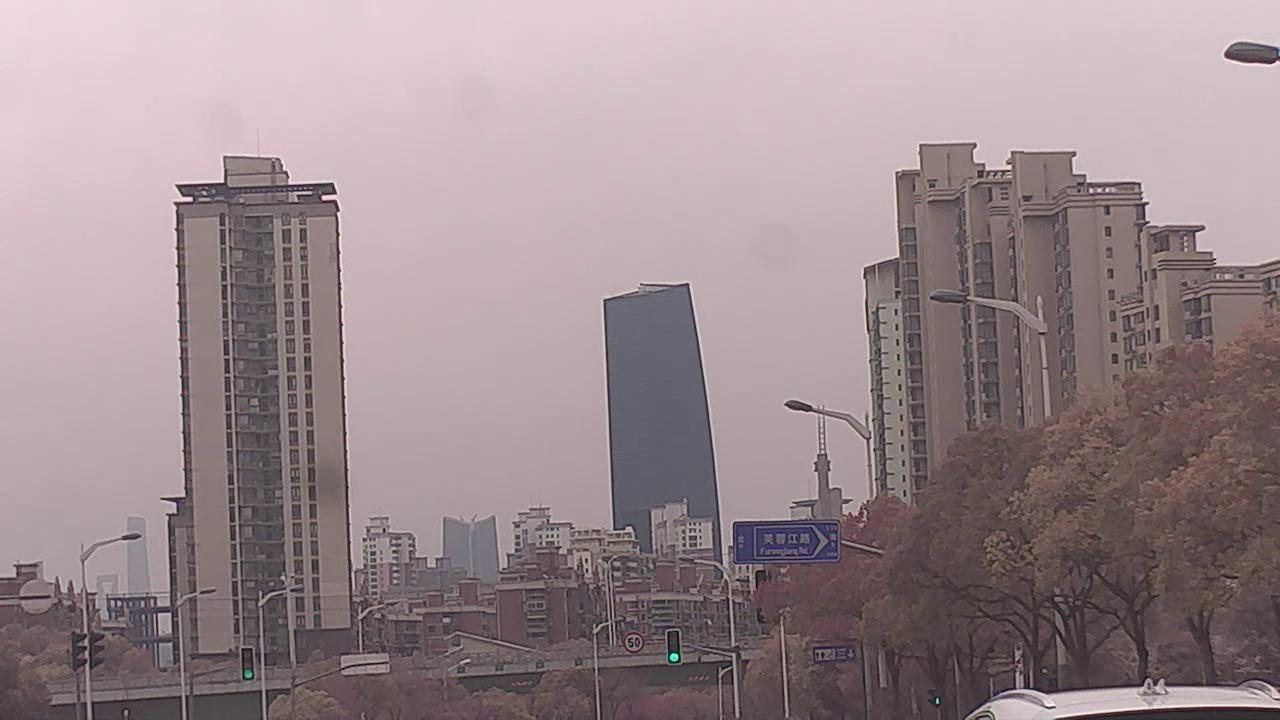traffic_light: (241, 644, 255, 679), (668, 628, 682, 662)
